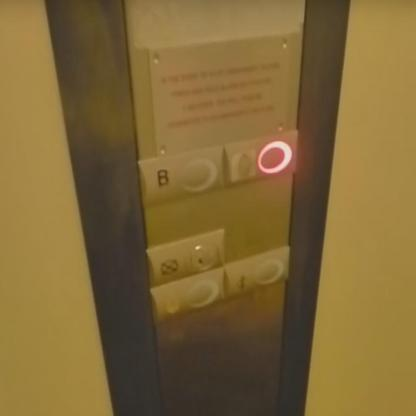B: (137, 143, 224, 209)
alarm: (148, 266, 224, 326)
blur: (222, 128, 298, 186), (224, 244, 289, 298)
light: (145, 229, 224, 285)
